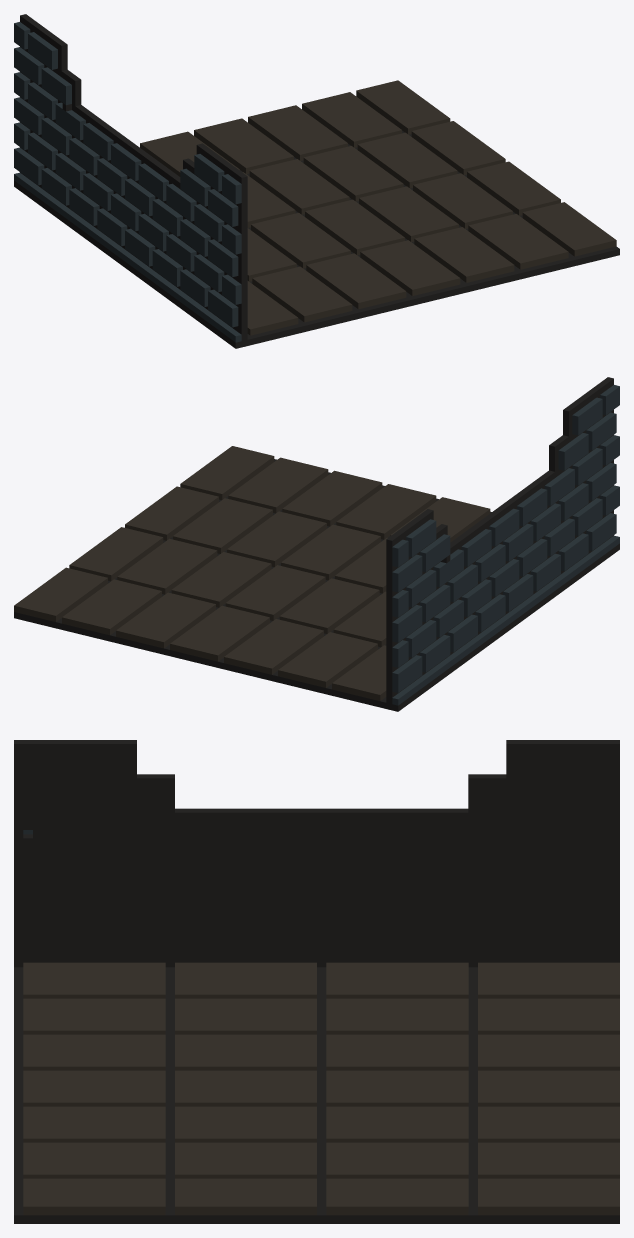
The model's file is base_flanks.obj.
3 renders of one model, top to bottom at view 1: azimuth 30°, elevation 25°; view 2: azimuth 150°, elevation 25°; view 3: azimuth 270°, elevation 25°, orthographic. The views are drawn at different scales.
Size of the model in its own units: 6.4 by 2.7 by 6.4.
1 material, 1 textured.
